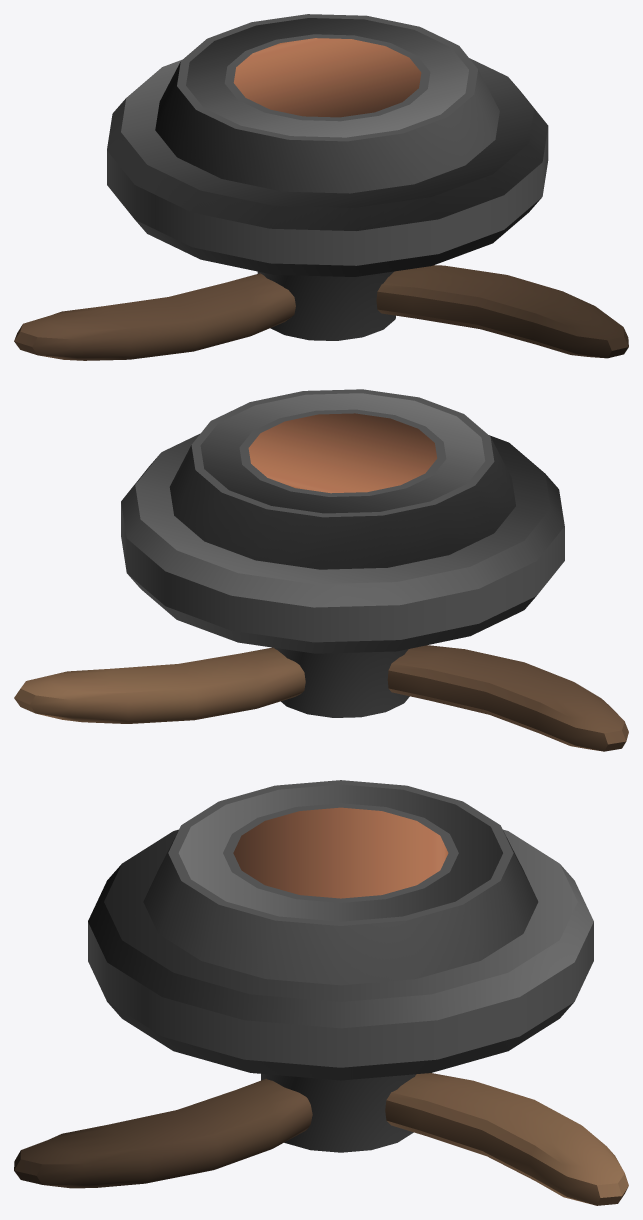
Rendered from propeller.fbx.
3 views of the same model, one above another, from view 1: azimuth 30°, elevation 25°; view 2: azimuth 150°, elevation 25°; view 3: azimuth 270°, elevation 25° (orthographic). The views are drawn at different scales.
Parts seen in each view (by area): view 1: propelerplatform, propeler; view 2: propelerplatform, propeler; view 3: propelerplatform, propeler.
Boxes of the visible parts, x1,y1,x2,y2 form: propelerplatform: [107, 14, 548, 340]; propeler: [14, 265, 628, 360]; propelerplatform: [121, 389, 564, 717]; propeler: [14, 645, 628, 751]; propelerplatform: [88, 780, 593, 1152]; propeler: [14, 1073, 628, 1205].
Bounding box in the file's own units: 4.24 × 1.88 × 3.93.
